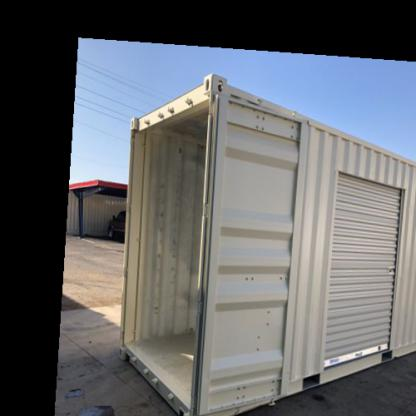Damage: (148, 145, 204, 328), (235, 247, 288, 401)
